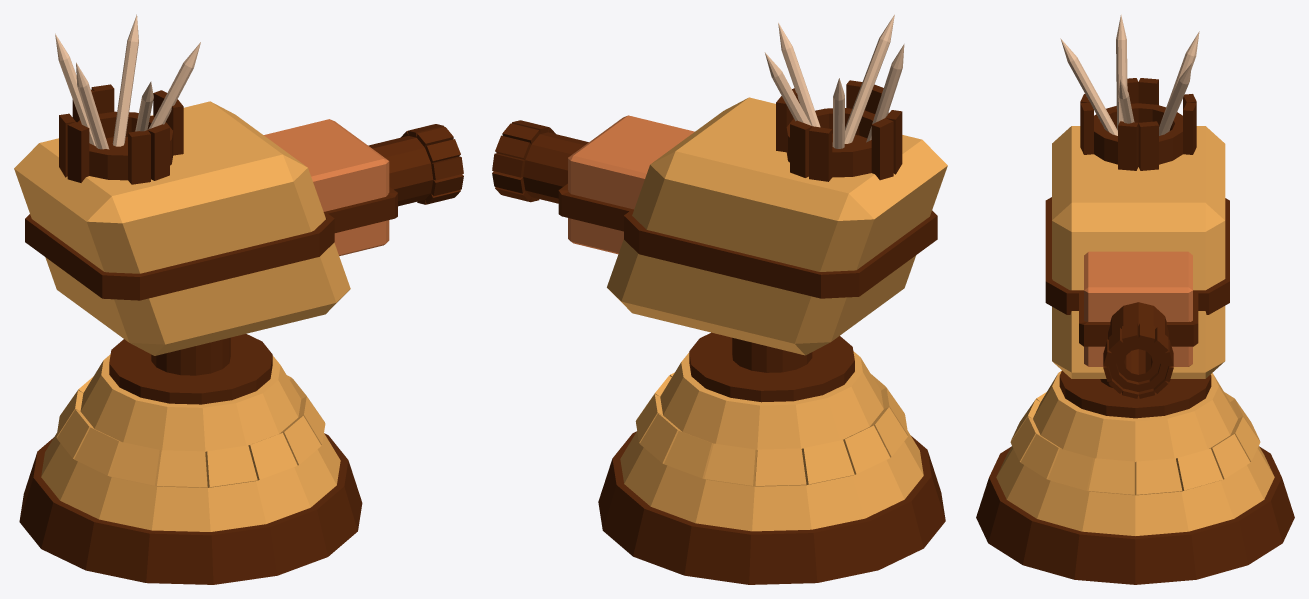
Rendered from KurdanAtarSv2Model.fbx.
3 views of the same model, side by side, from view 1: azimuth 30°, elevation 25°; view 2: azimuth 150°, elevation 25°; view 3: azimuth 270°, elevation 25° (orthographic). The views are drawn at different scales.
Parts seen in each view (by area): view 1: kurdanatar_ust.006, kurdanatar_alt.009; view 2: kurdanatar_ust.006, kurdanatar_alt.009; view 3: kurdanatar_ust.006, kurdanatar_alt.009.
Part boxes in pixels (bbox=[...]): kurdanatar_ust.006: bbox=[14, 14, 463, 355]; kurdanatar_alt.009: bbox=[19, 334, 362, 584]; kurdanatar_ust.006: bbox=[492, 14, 947, 355]; kurdanatar_alt.009: bbox=[598, 332, 945, 584]; kurdanatar_ust.006: bbox=[1045, 14, 1229, 398]; kurdanatar_alt.009: bbox=[976, 370, 1294, 584].
Bounding box in the file's own units: 271 × 310 × 200.
Materials: 2 (2 with a texture image).
